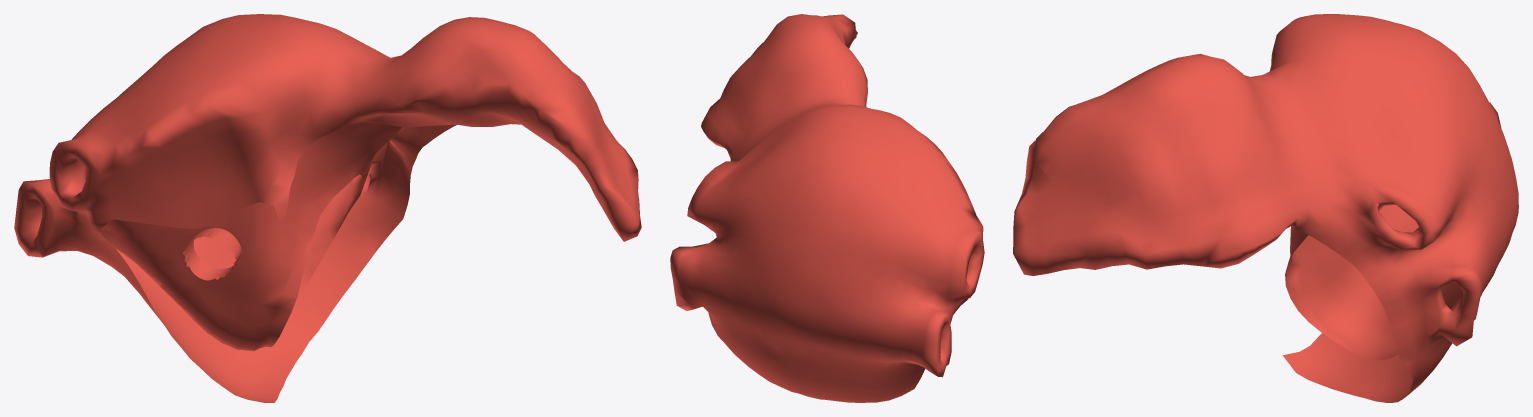
Rendered from ASDleftatrium.gltf.
3 views of the same model, side by side, from view 1: azimuth 30°, elevation 25°; view 2: azimuth 150°, elevation 25°; view 3: azimuth 270°, elevation 25° (orthographic). The views are drawn at different scales.
Parts seen in each view (by area): view 1: Left atrium.008; view 2: Left atrium.008; view 3: Left atrium.008.
Part boxes in pixels (x1,y1,x2,y2): Left atrium.008: (14,14,641,402); Left atrium.008: (670,14,984,402); Left atrium.008: (1013,14,1518,402).
Size of the model in its own units: 2.73 by 2.33 by 2.73.
